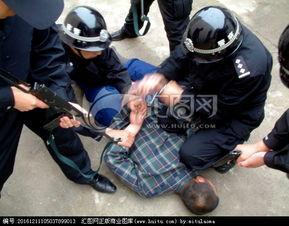Fall-Detected: (105, 39, 209, 208)
